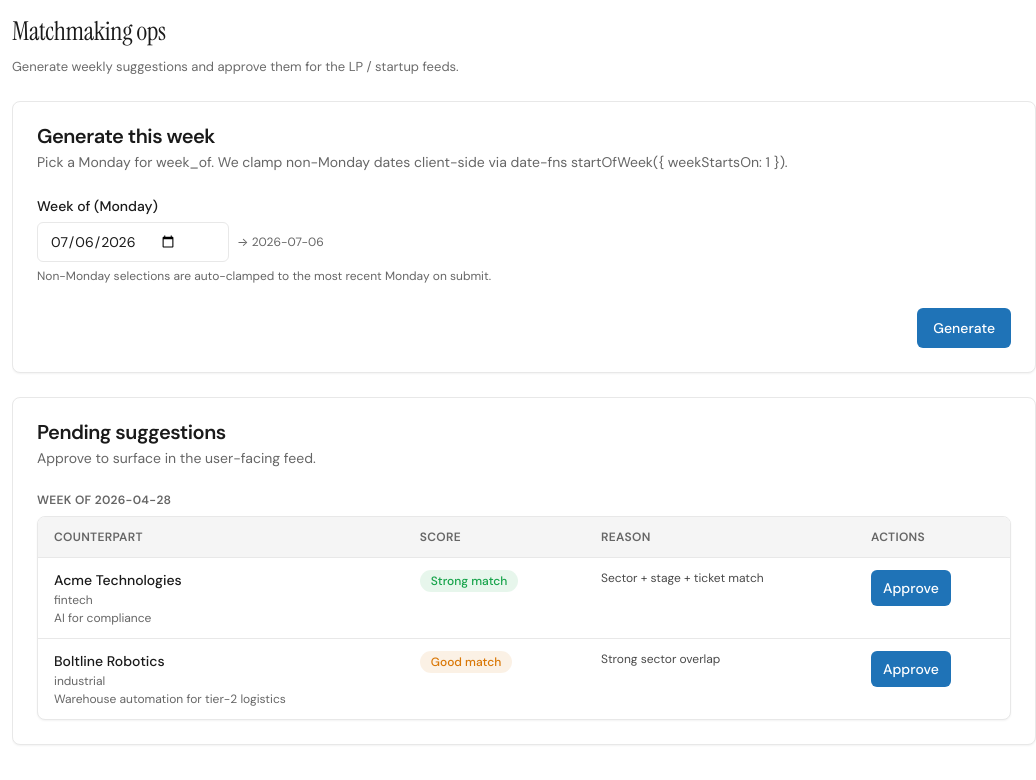
Test: AdminMatchmakingOpsPage › approving a row removes it optimistically and increments the server-side count
Expected: the text "Acme Technologies" is shown, [54,570,182,588]
Click the button with test id "approve-c1d2e3f4-5a6b-4c8d-9e0f-1a2b3c4d5e6f". click: (911, 588)
box: [871,570,951,606]
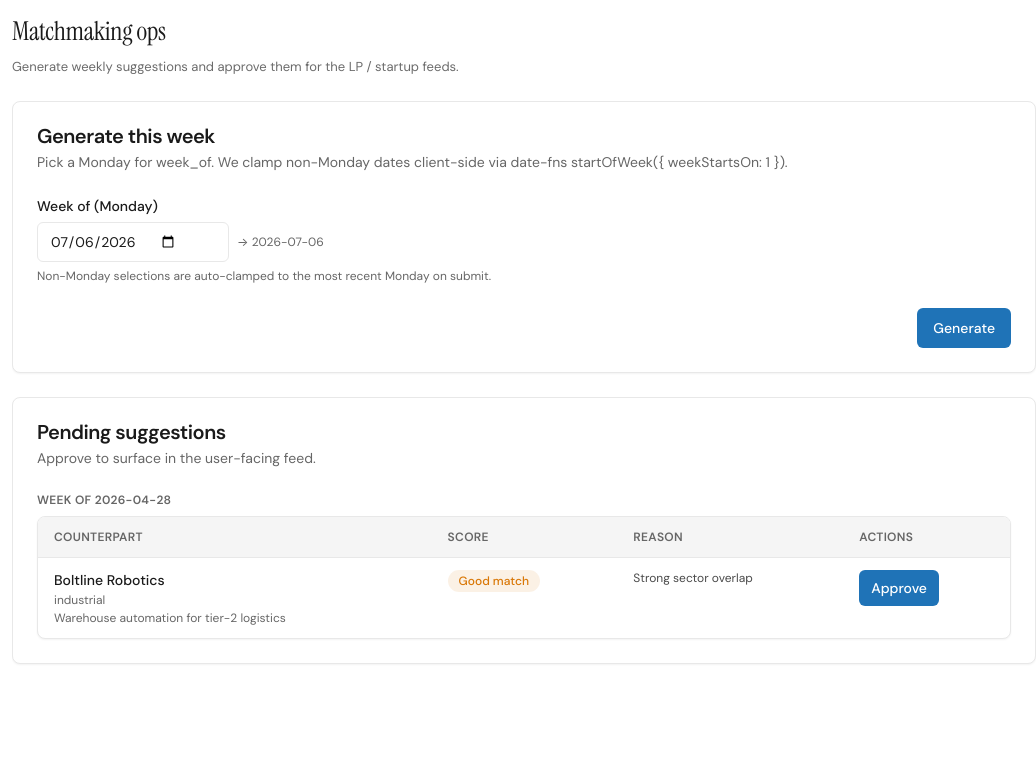
Expected: the text "Acme Technologies" is gone
